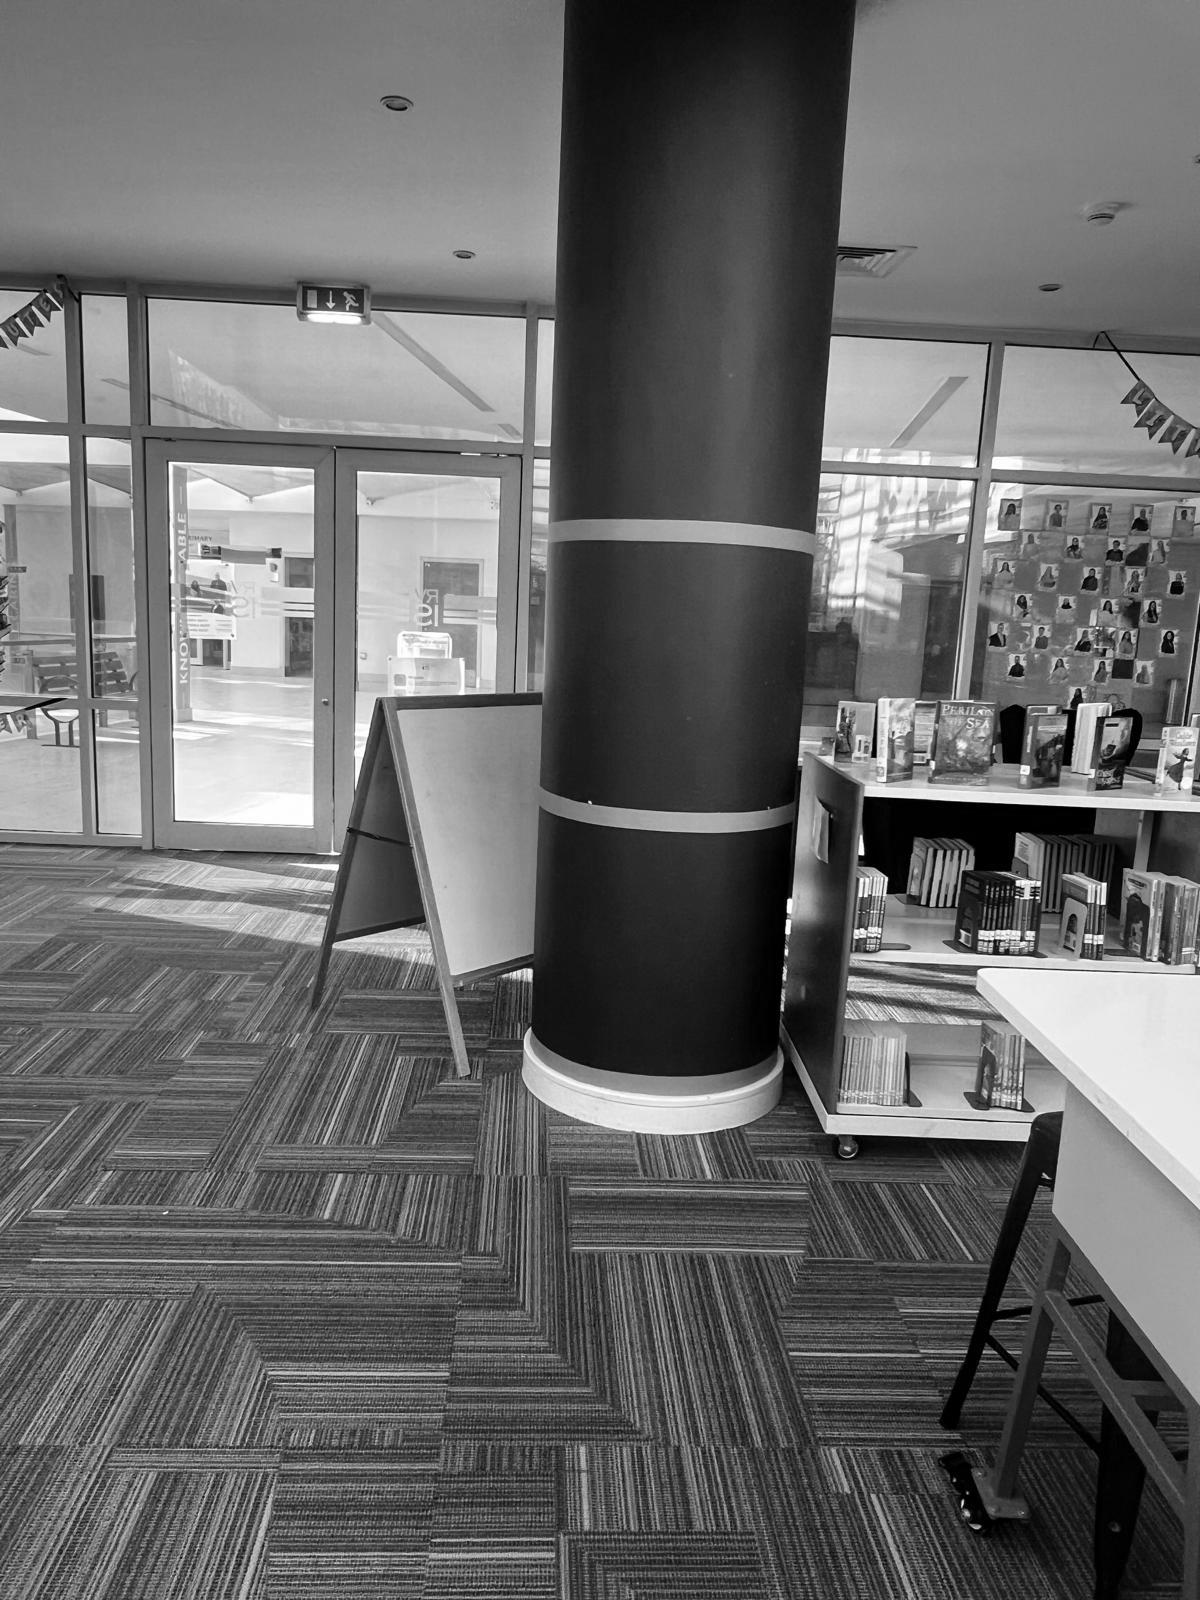Chair: (940, 1112, 1061, 1424)
Pillar: (523, 0, 855, 1133)
Table: (972, 969, 1199, 1599)
chair: (1039, 1386, 1089, 1449)
